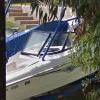Boat: (4, 21, 99, 96)
